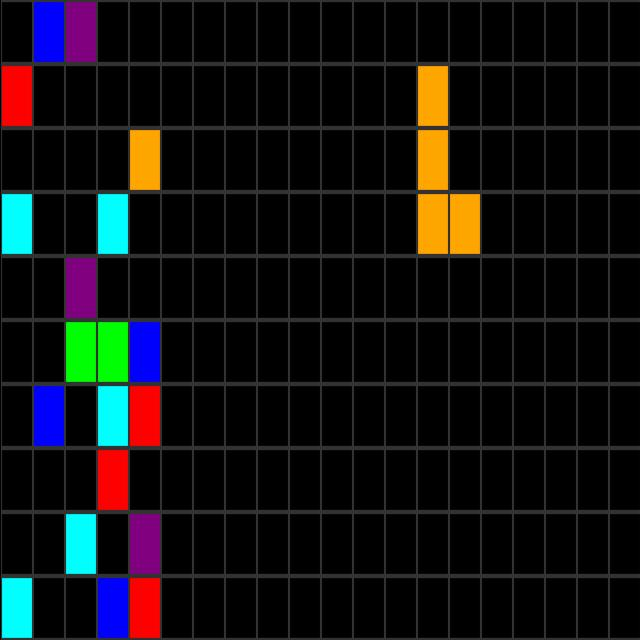Tetrimino_S: (416, 69, 480, 257)
